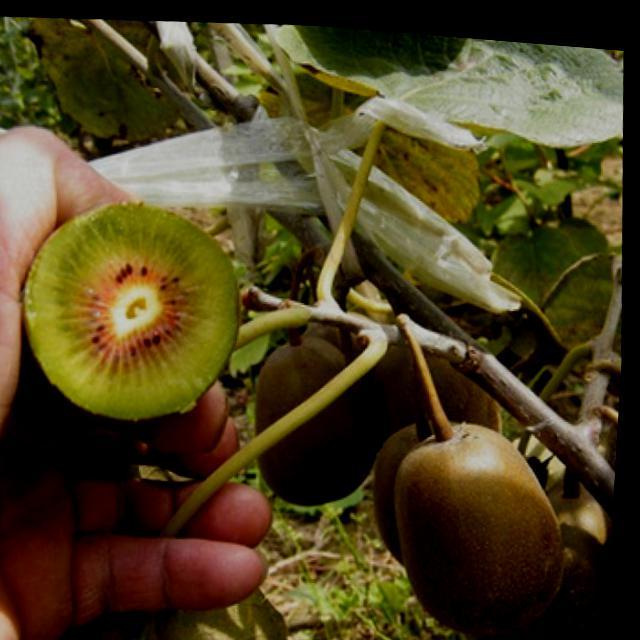kiwi: (389, 405, 576, 632), (366, 314, 518, 496), (251, 325, 385, 507), (372, 407, 492, 559), (525, 508, 619, 640)
